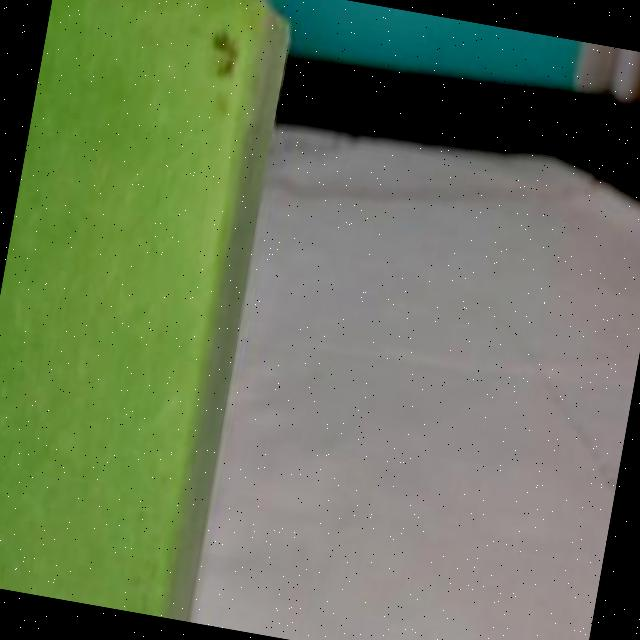greenbox: (0, 0, 300, 622)
